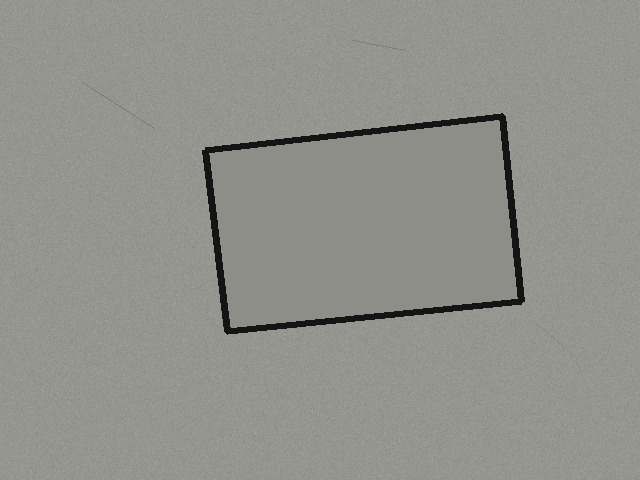parking_area: (205, 116, 521, 331)
